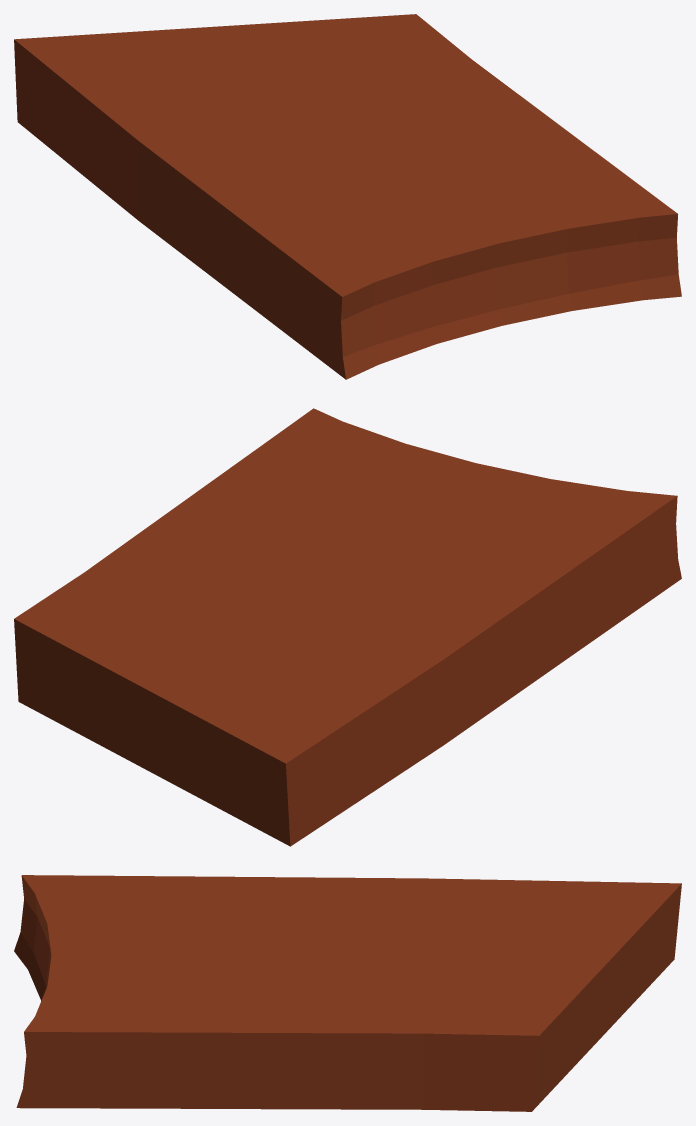
Rendered from BrokenPlanche4.fbx.
3 renders of one model, top to bottom at view 1: azimuth 30°, elevation 25°; view 2: azimuth 150°, elevation 25°; view 3: azimuth 270°, elevation 25°, orthographic. The views are drawn at different scales.
Visible parts, largest first — view 1: BrokenPlanche.004; view 2: BrokenPlanche.004; view 3: BrokenPlanche.004.
Boxes of the visible parts, x1,y1,x2,y2 form: BrokenPlanche.004: (14, 14, 681, 379); BrokenPlanche.004: (14, 408, 681, 846); BrokenPlanche.004: (14, 875, 681, 1111).
Size of the model in its own units: 175 by 38.61 by 307.
